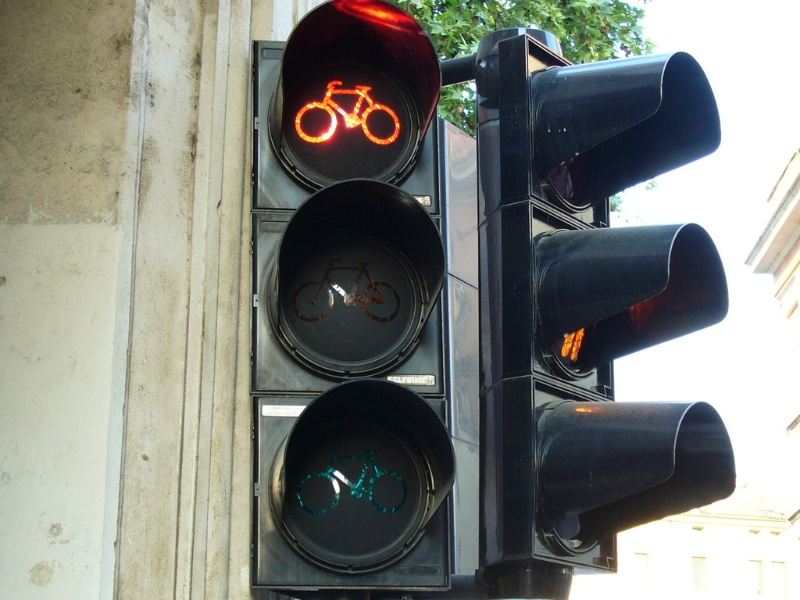cycle_route_ahead: (278, 73, 411, 163), (280, 444, 417, 528), (286, 252, 403, 338)
